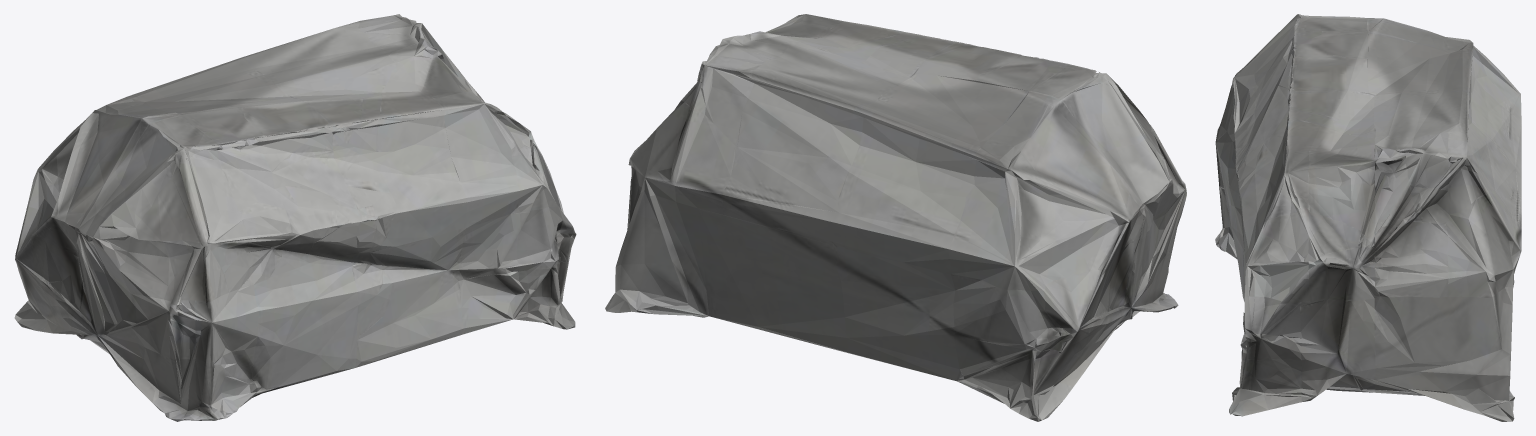
3 views of the same model, side by side, from view 1: azimuth 30°, elevation 25°; view 2: azimuth 150°, elevation 25°; view 3: azimuth 270°, elevation 25° (orthographic). The views are drawn at different scales.
Parts seen in each view (by area): view 1: geometry_0; view 2: geometry_0; view 3: geometry_0.
Boxes of the visible parts, bbox=[...] form: geometry_0: bbox=[14, 14, 576, 421]; geometry_0: bbox=[605, 14, 1186, 421]; geometry_0: bbox=[1215, 14, 1521, 421].
Size of the model in its own units: 1.02 by 0.5387 by 0.6204.
1 material, 1 textured.
